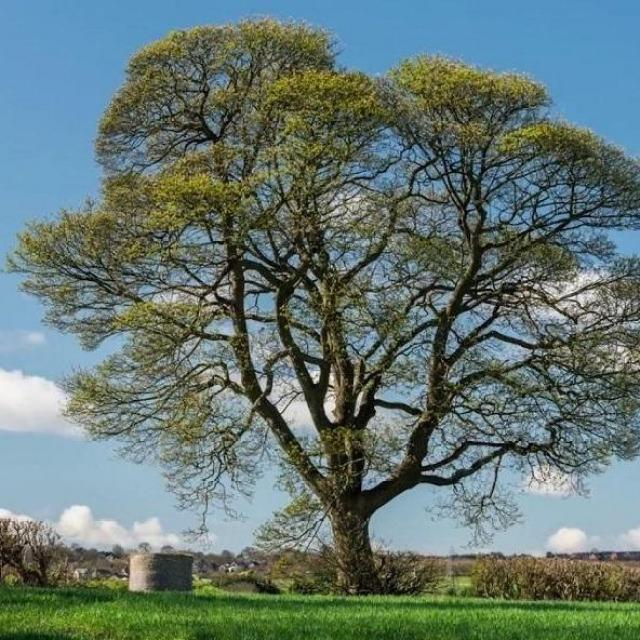Tree: (3, 4, 640, 600), (1, 511, 80, 603)
